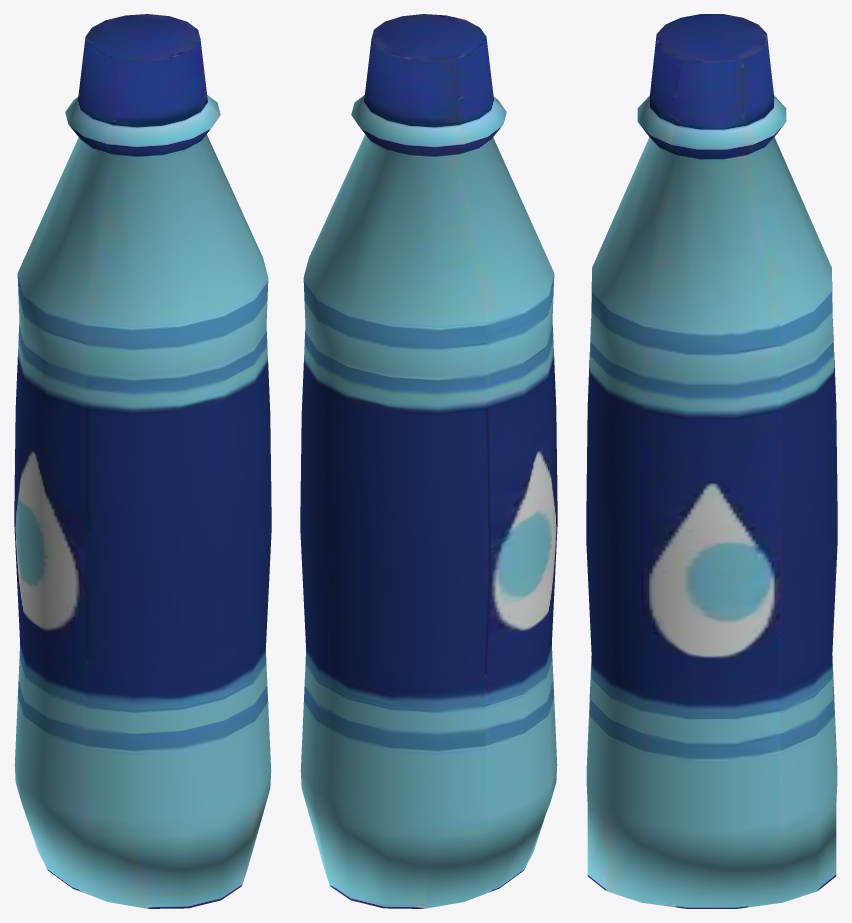
File: smallbottle.fbx
The picture shows the model from 3 angles, left to right: view 1: azimuth 30°, elevation 25°; view 2: azimuth 150°, elevation 25°; view 3: azimuth 270°, elevation 25°; orthographic projection.
Visible parts, largest first — view 1: Cylinder.004; view 2: Cylinder.004; view 3: Cylinder.004.
Part boxes in pixels (x1,y1,x2,y2): Cylinder.004: (14, 14, 271, 908); Cylinder.004: (300, 14, 557, 908); Cylinder.004: (586, 14, 837, 908).
Size of the model in its own units: 89.27 by 318 by 87.26.
